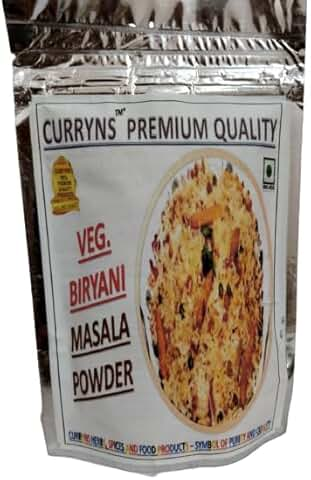Biryani: (2, 5, 311, 475)
